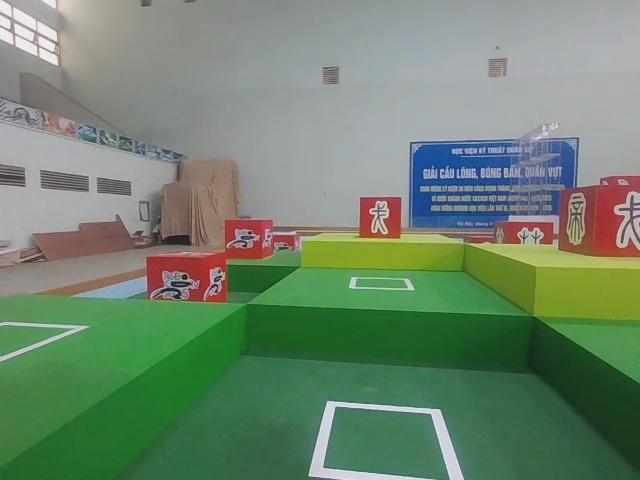R1: (146, 251, 228, 301), (222, 217, 277, 261)
R2 Fake: (558, 187, 640, 257), (358, 195, 402, 239)
